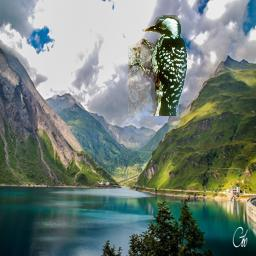Woodpecker: (128, 15, 187, 116)
